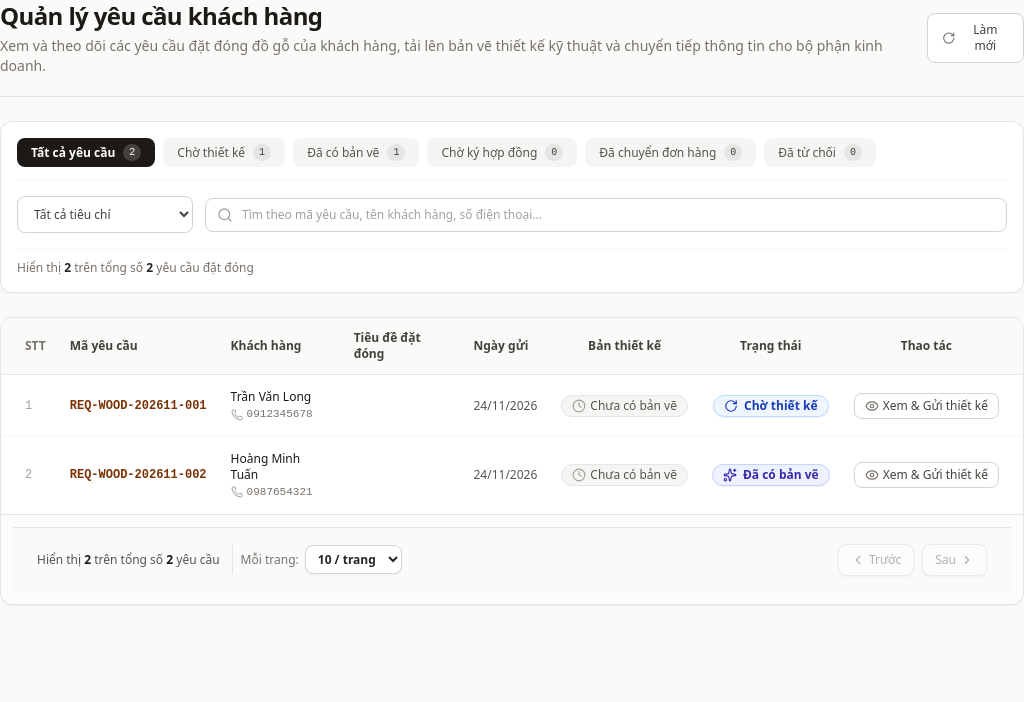
Scenario: ManageCustomerRequestsPage Component › opens detail modal when clicking action button
Expected: the text "REQ-WOOD-202611-001" is shown, [58,375,219,436]
Click the button "Xem & Gửi thiết kế" in the row of "REQ-WOOD-202611-001" at [926, 406], box [854,393,999,419]
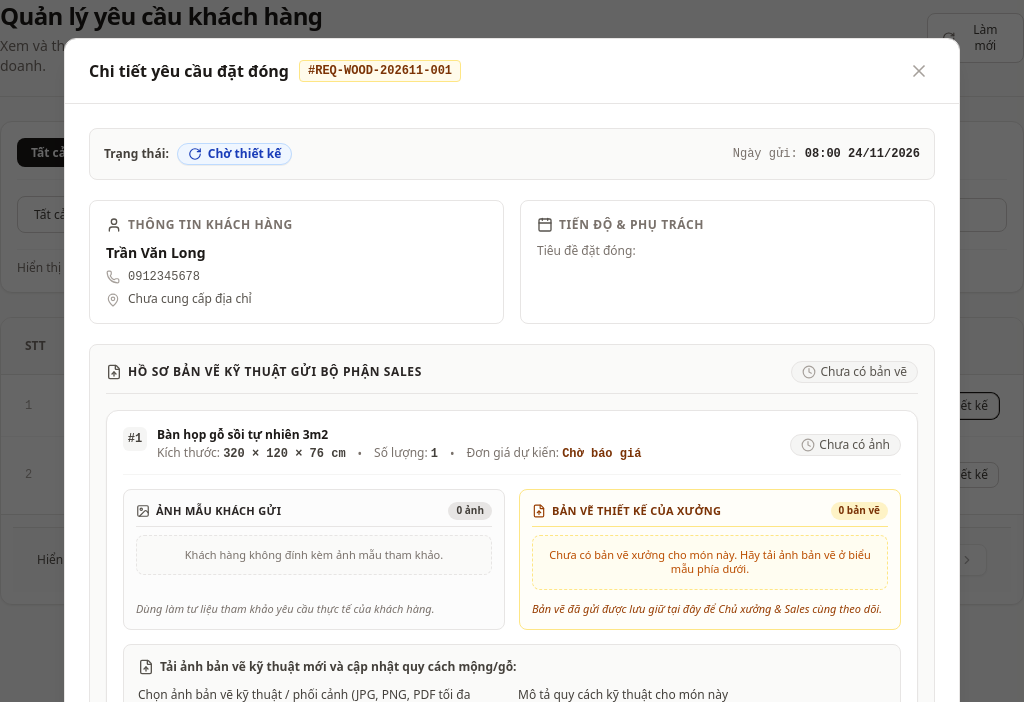
Result: the heading "Chi tiết yêu cầu đặt đóng" is shown at [89,59,289,83]
